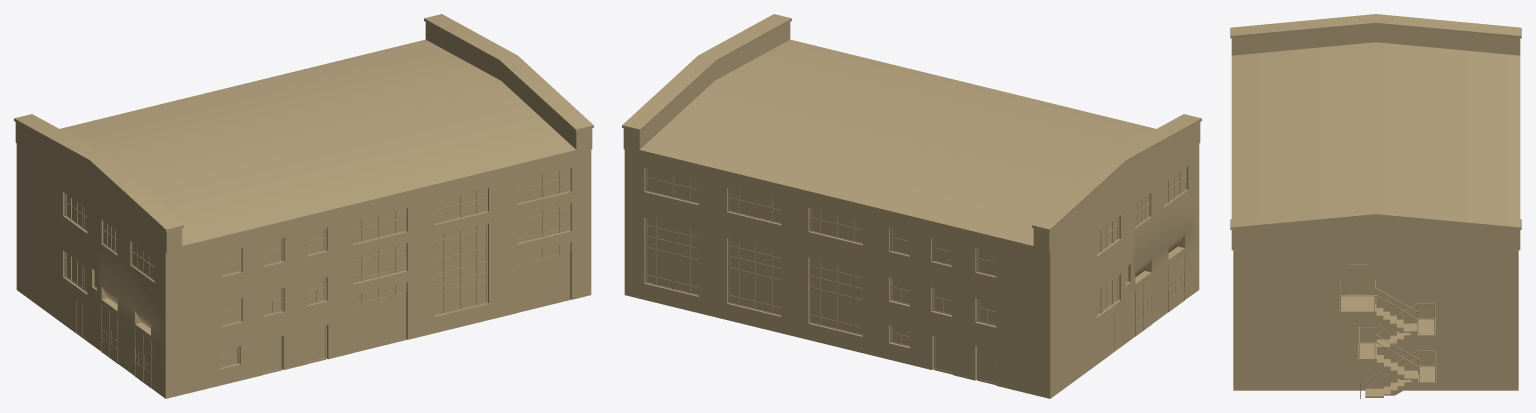
File: Building_03.fbx
The picture shows the model from 3 angles, left to right: view 1: azimuth 30°, elevation 25°; view 2: azimuth 150°, elevation 25°; view 3: azimuth 270°, elevation 25°; orthographic projection. The views are drawn at different scales.
Parts seen in each view (by area): view 1: Building_03; view 2: Building_03; view 3: Building_03.
Boxes of the visible parts, x1,y1,x2,y2 form: Building_03: (14, 14, 593, 398); Building_03: (622, 14, 1201, 398); Building_03: (1230, 14, 1521, 398).
Size of the model in its own units: 3091 by 1192 by 1767.
